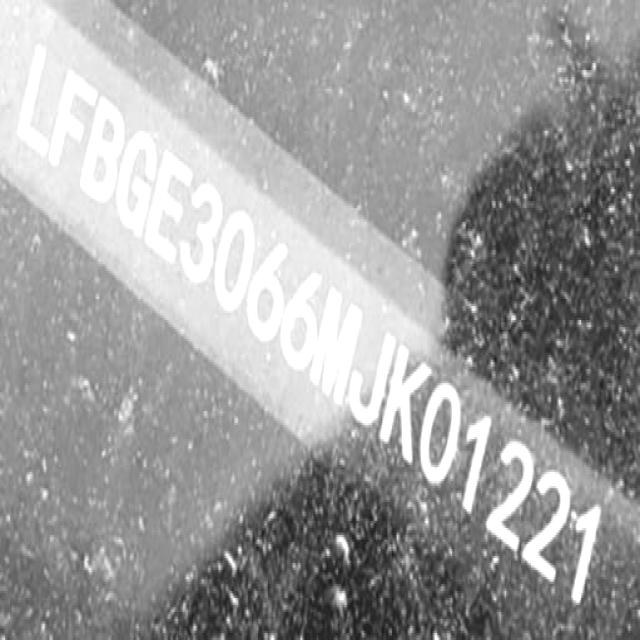0: (410, 368, 471, 501), (207, 188, 265, 326)
1: (560, 487, 607, 619), (449, 393, 496, 524)
2: (481, 422, 544, 562), (518, 457, 577, 596)
3: (172, 165, 229, 300)
6: (240, 220, 302, 356), (275, 244, 333, 383)
B: (77, 86, 135, 219)
E: (142, 137, 196, 269)
F: (45, 60, 102, 188)
G: (109, 115, 163, 243)
J: (343, 303, 402, 446)
K: (374, 332, 438, 474)
L: (9, 34, 68, 163)
M: (307, 270, 368, 420)
